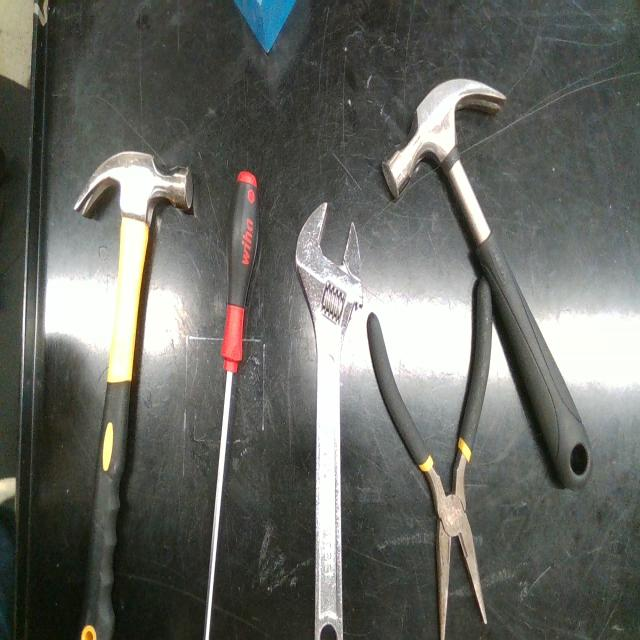Screwdriver: (204, 171, 259, 640)
